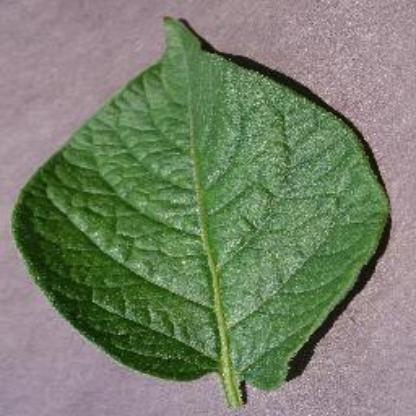Healthy-plant: (13, 13, 389, 406)
